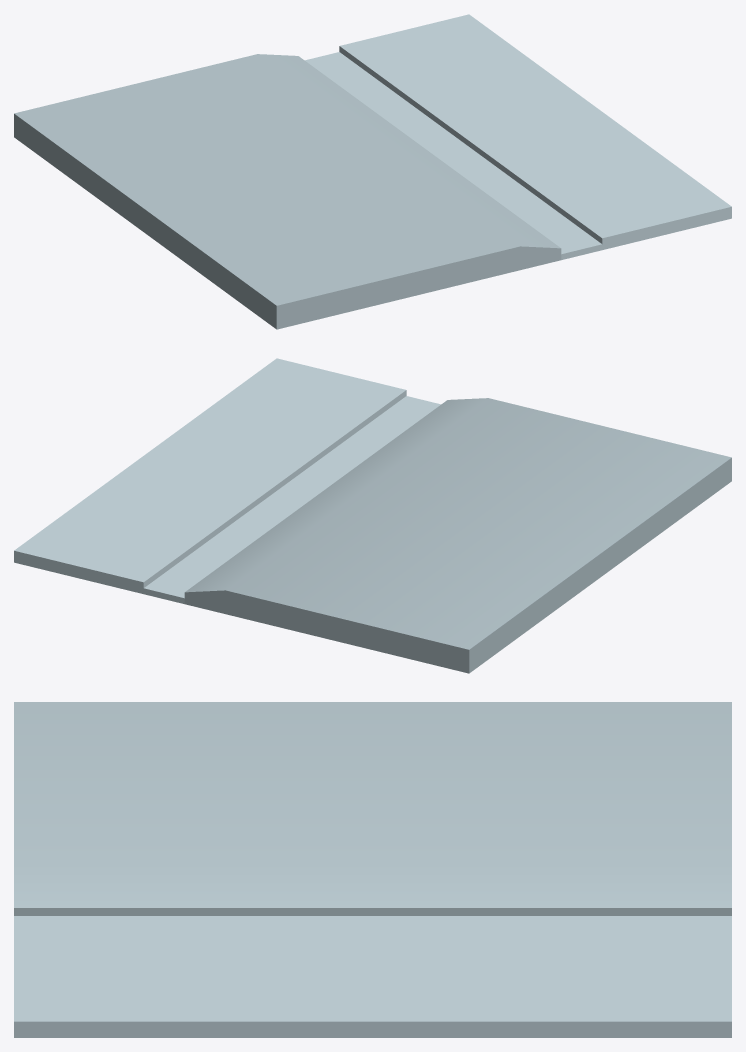
Rendered from road_edge.glb.
3 renders of one model, top to bottom at view 1: azimuth 30°, elevation 25°; view 2: azimuth 150°, elevation 25°; view 3: azimuth 270°, elevation 25°, orthographic. The views are drawn at different scales.
Parts seen in each view (by area): view 1: roadEdge; view 2: roadEdge; view 3: roadEdge.
Part boxes in pixels (bbox=[...]): roadEdge: bbox=[14, 14, 731, 329]; roadEdge: bbox=[14, 358, 731, 673]; roadEdge: bbox=[14, 702, 731, 1037].
Bounding box in the file's own units: 1 × 0.05 × 1.
